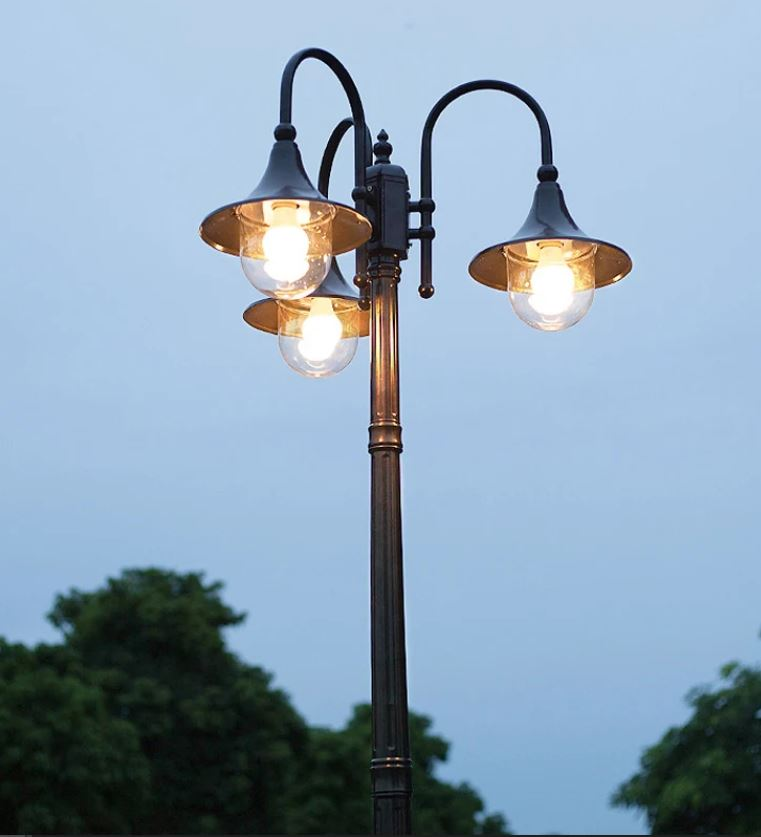Lamp: (198, 34, 637, 837)
